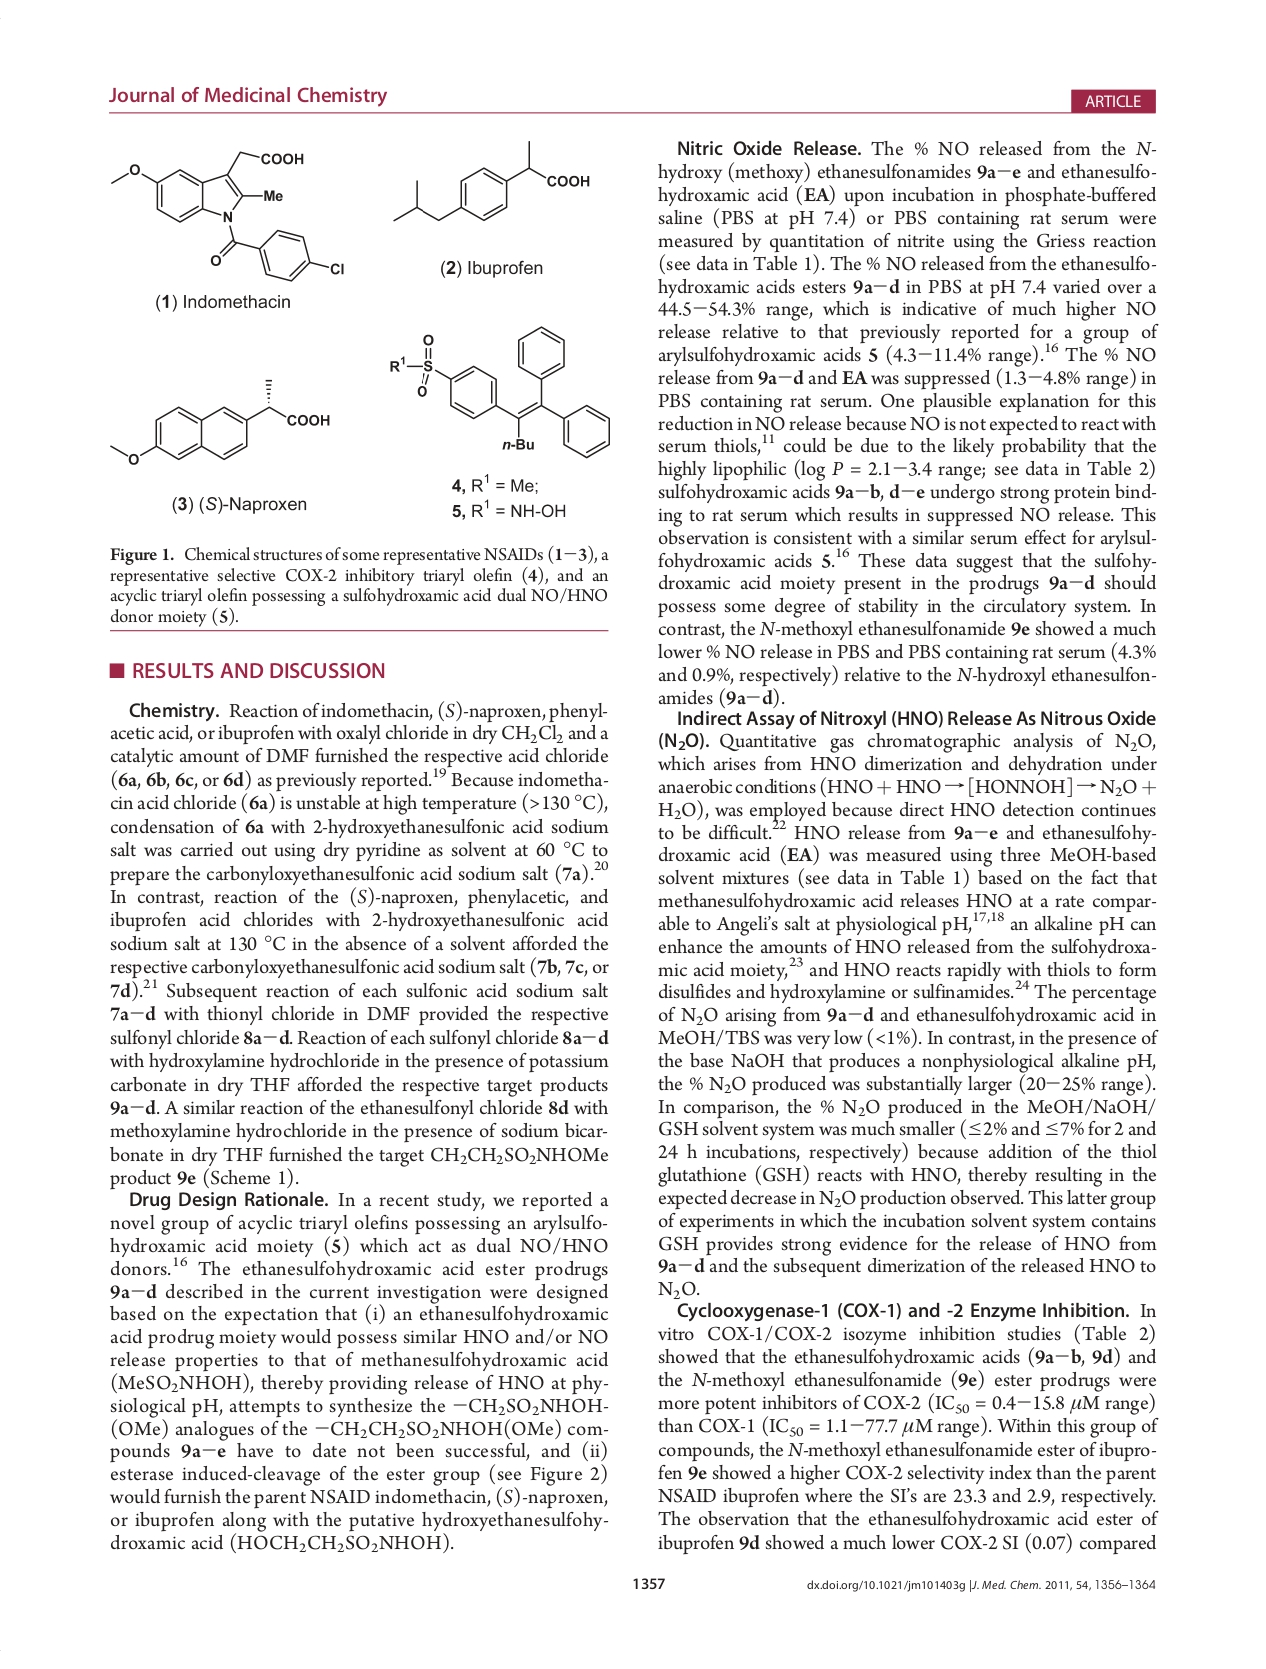exist_molecular: (108, 145, 350, 285), (384, 319, 614, 463), (102, 371, 339, 469), (387, 134, 593, 230)
